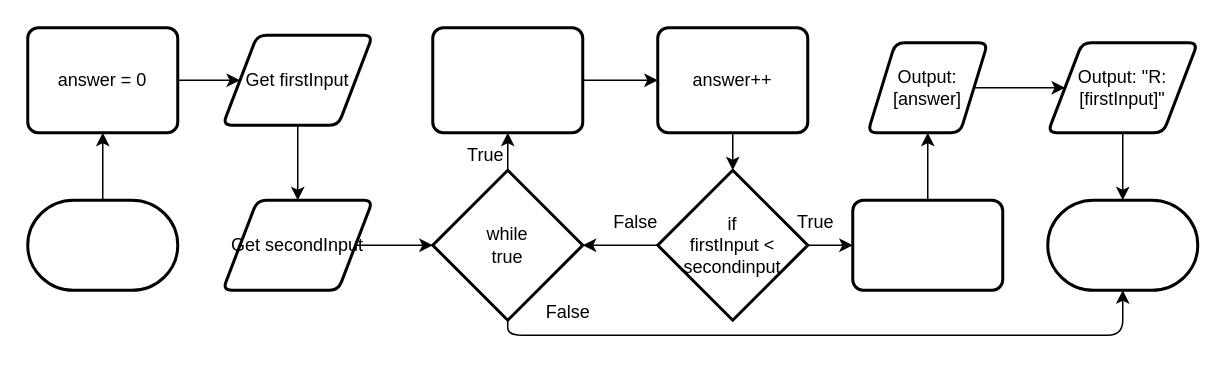
Image size: 1224x374. Some labels were removed from this diagram. The centre of each missing label's shape, as x and y in pixels:
break: point (927, 244)
firstInput =- secondInput: point (507, 80)
Start: point (102, 244)
Stop: point (1122, 244)
